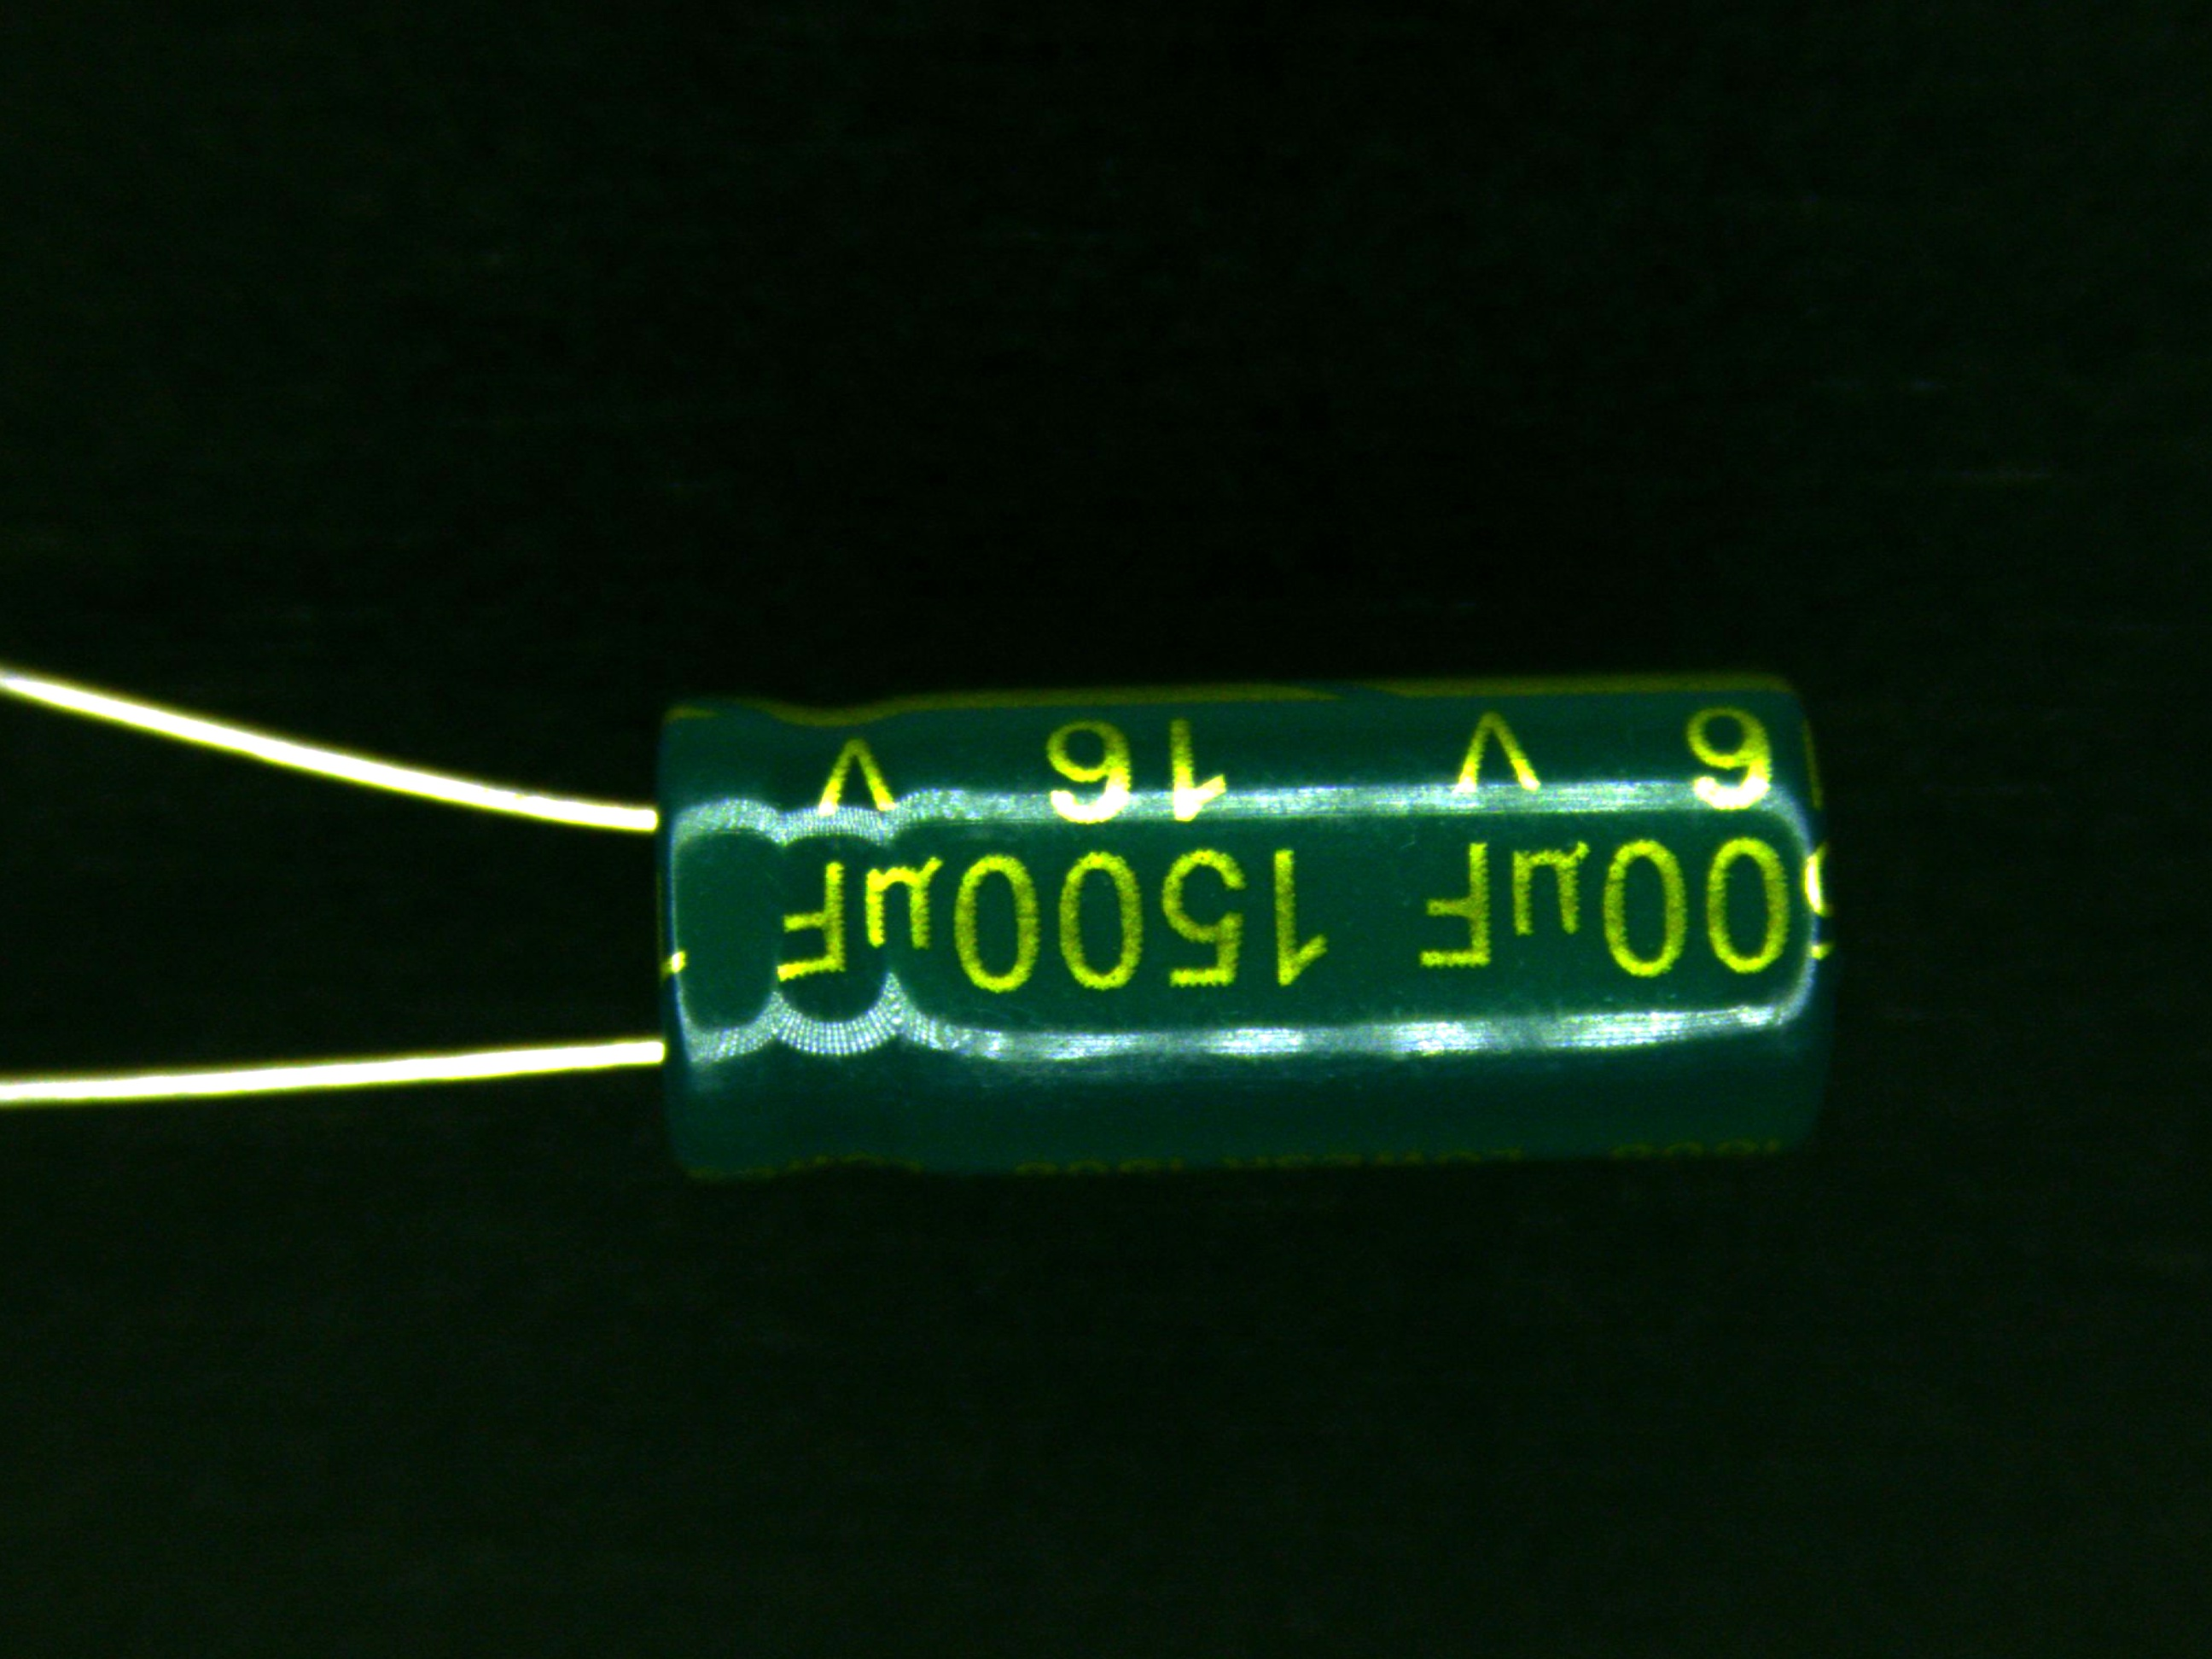c1: (401, 678, 1841, 1178)
